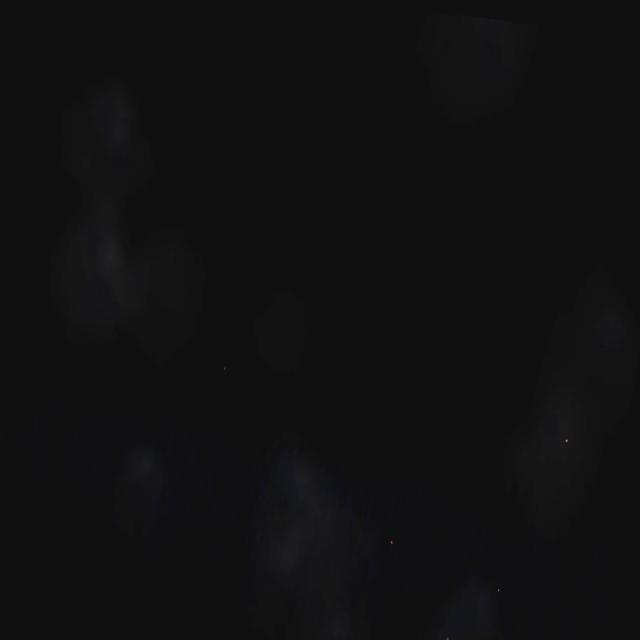smoke: (44, 81, 170, 352)
